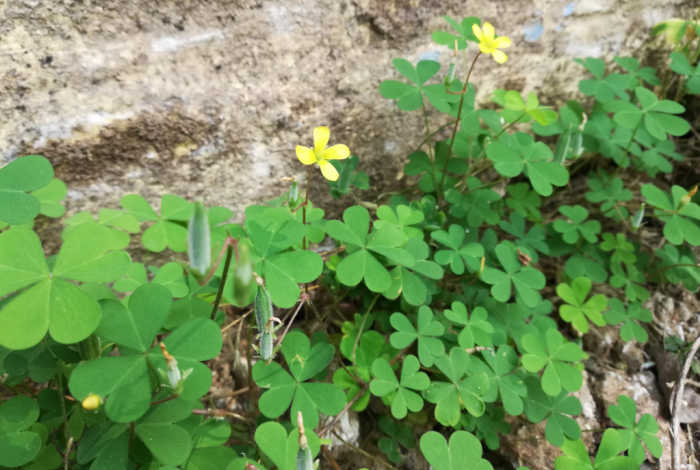clover: (68, 281, 222, 424), (1, 219, 133, 351), (251, 329, 347, 432), (323, 203, 414, 294), (485, 130, 569, 198), (422, 347, 489, 427), (476, 241, 547, 309), (519, 326, 584, 397), (368, 353, 429, 419), (389, 303, 447, 369), (554, 276, 610, 331), (429, 222, 485, 275), (602, 299, 655, 343), (552, 203, 601, 246)
yellow wood sorrel: (294, 124, 351, 184), (470, 19, 512, 66)
